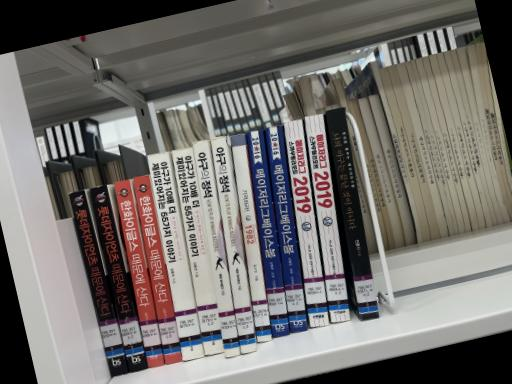book-spine: (147, 151, 203, 360), (326, 106, 379, 319), (68, 190, 128, 376), (172, 147, 224, 354), (90, 185, 146, 372), (192, 140, 239, 357), (211, 136, 256, 353), (305, 113, 350, 322), (114, 179, 163, 368), (133, 174, 181, 364), (284, 119, 328, 326), (246, 129, 289, 337), (230, 133, 271, 342), (266, 125, 307, 332)
